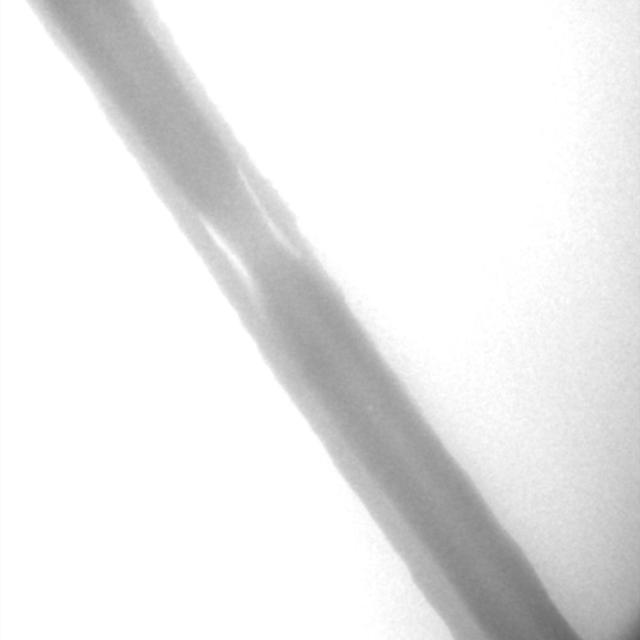unfused: (204, 173, 291, 289)
